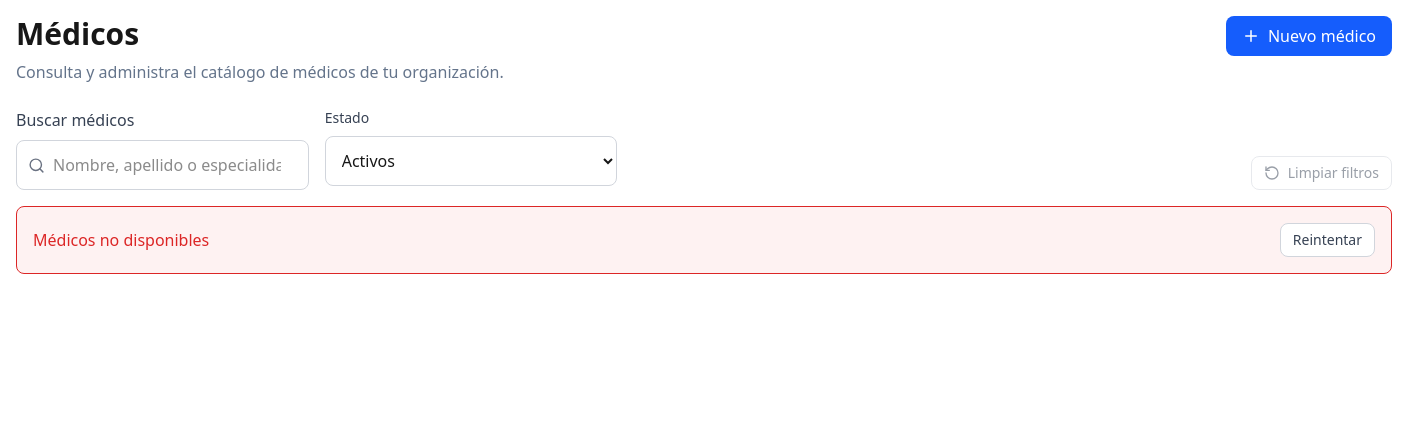
Test: DoctorsPage › muestra estado vacío y recupera un error con retry
This screenshot has width=1409, height=448.
Check: the text "Médicos no disponibles" is shown, box [33, 228, 209, 252]
Click the button "Reintentar": (1327, 240) [1280, 223, 1375, 257]
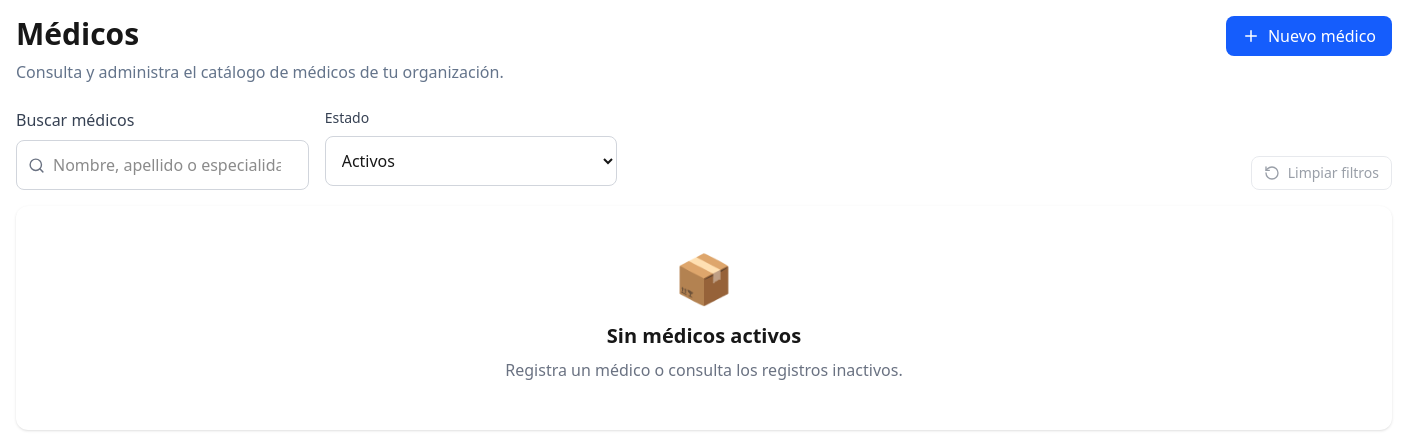
Check: the heading "Sin médicos activos" is shown, box [607, 322, 801, 349]
